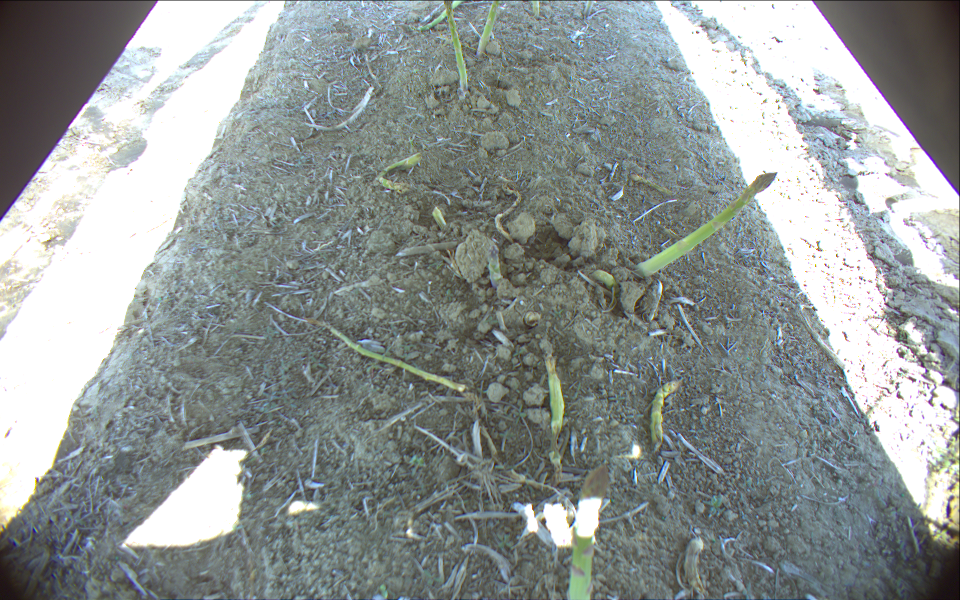aspa: (634, 170, 781, 277), (303, 319, 465, 392), (563, 463, 610, 600), (442, 1, 468, 97), (649, 378, 684, 448), (544, 345, 564, 437), (372, 153, 420, 190), (418, 1, 464, 31), (477, 1, 502, 56), (630, 172, 676, 197), (486, 243, 507, 291), (431, 206, 448, 230), (530, 1, 542, 16)
